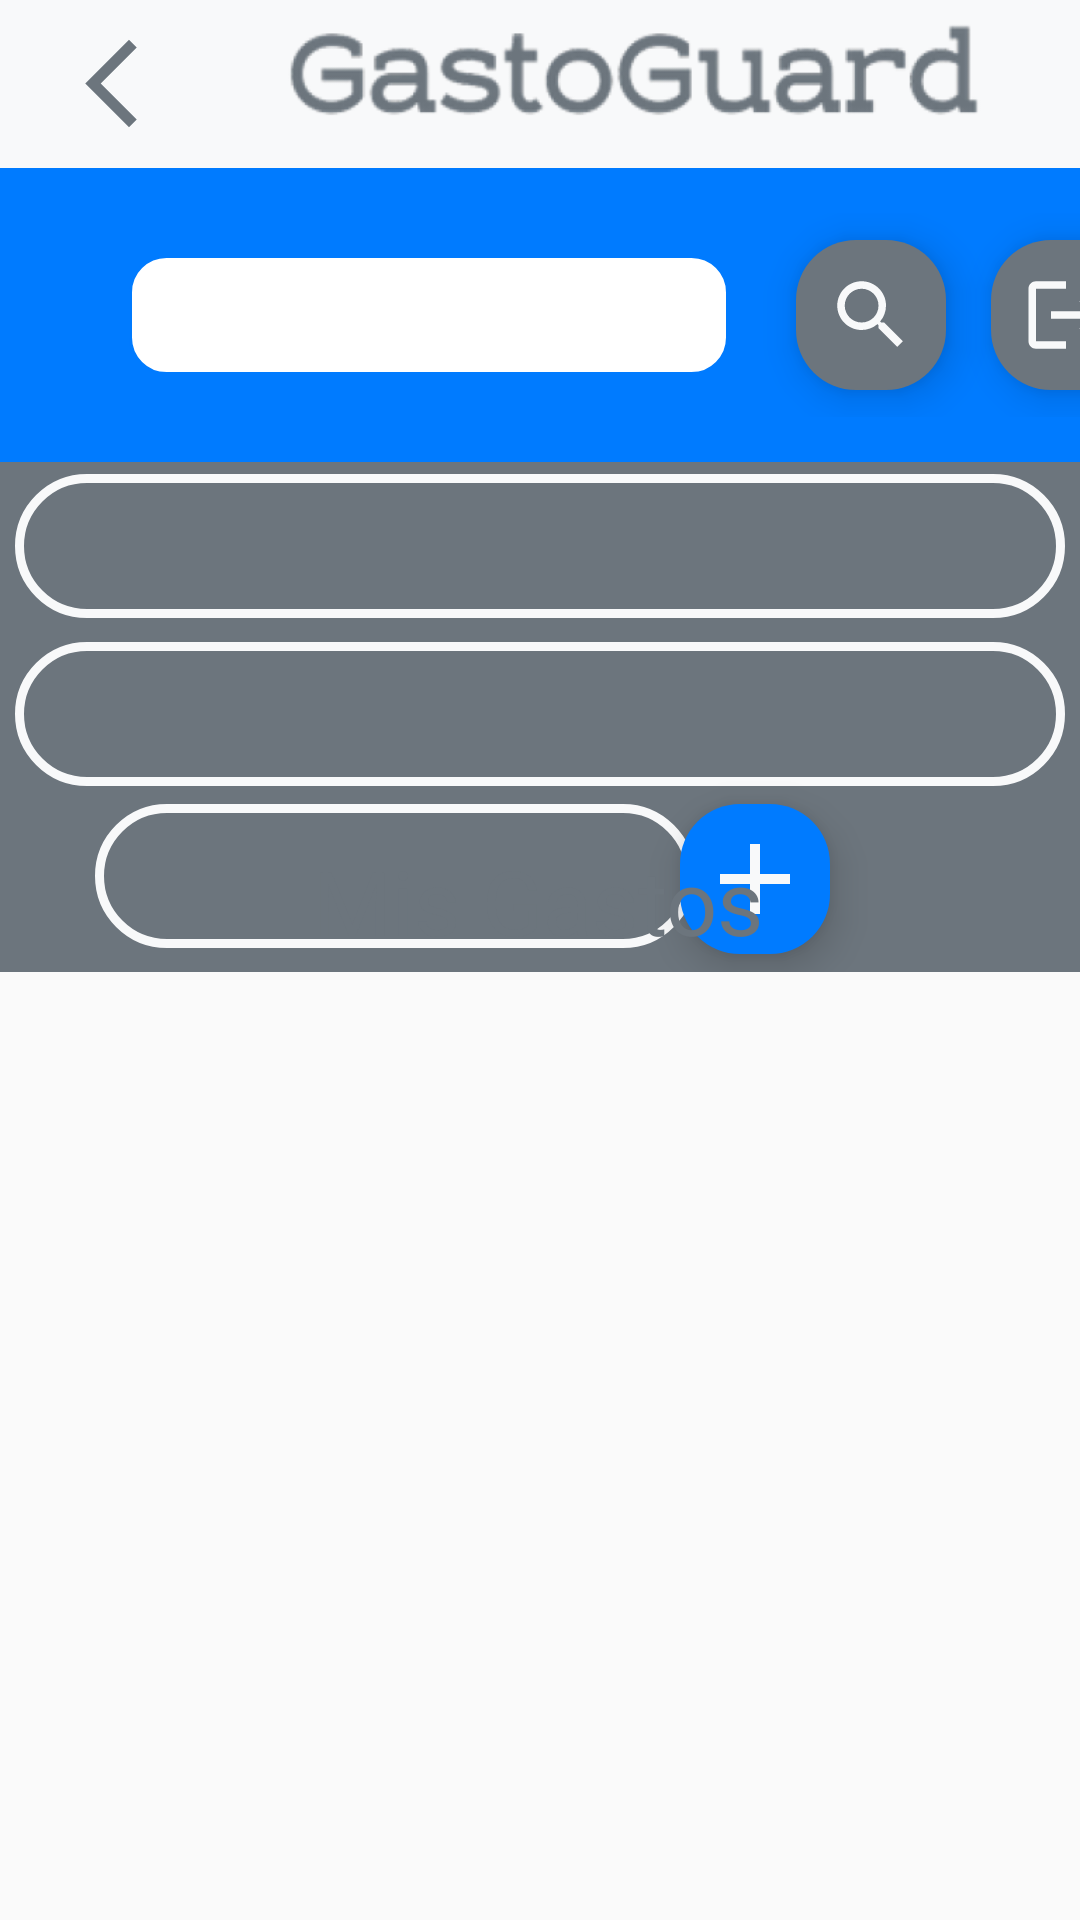

Where icons sit on this 1080w x 1920h app screen, as [x1,y1,x2,y2]:
arrow back: [85,40,137,127]
search: [796,240,946,390]
